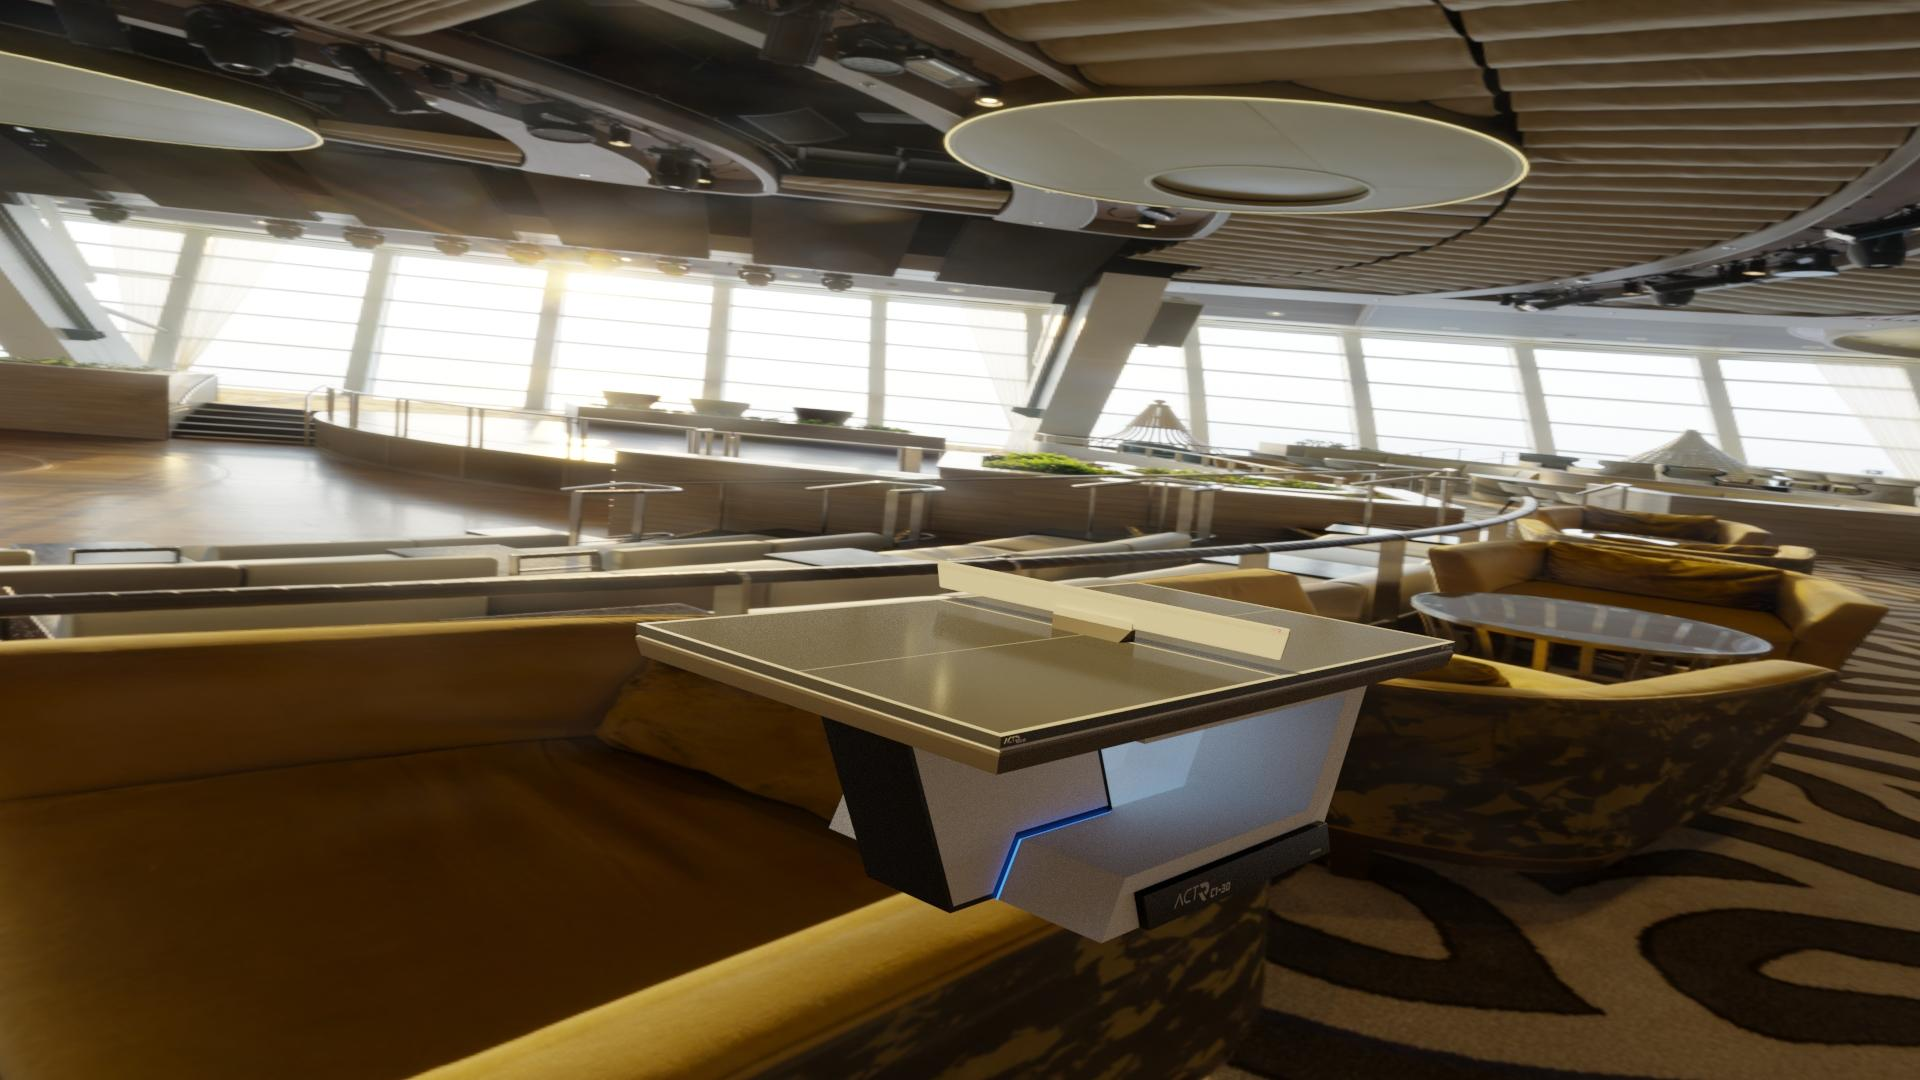table: (645, 583, 1448, 733)
